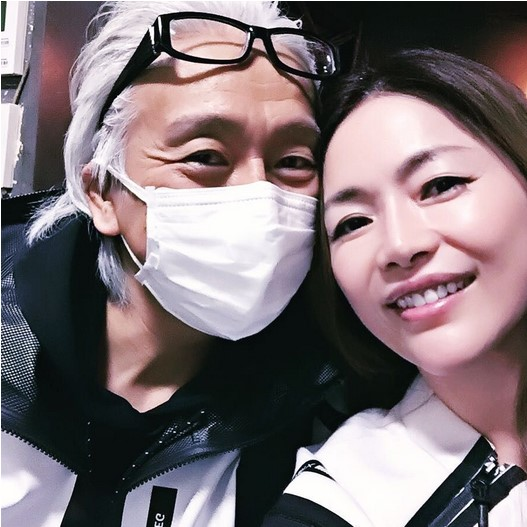face_no_mask: (315, 54, 524, 377)
face_with_mask: (64, 3, 327, 347)
